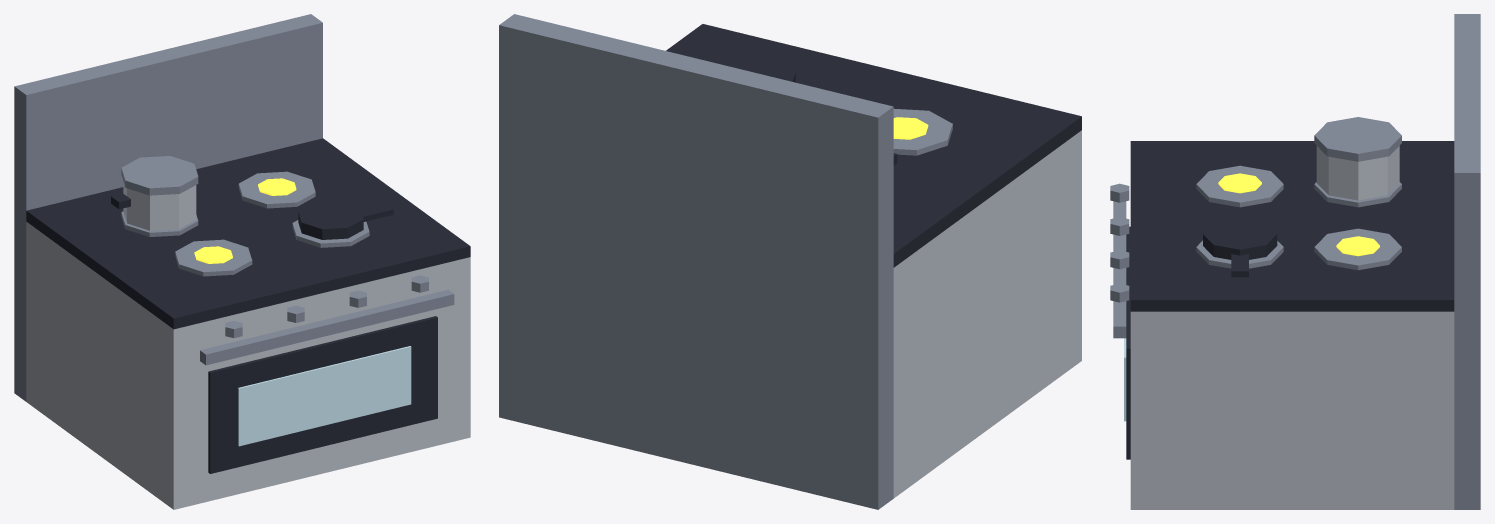
Rendered from cooktop.glb.
3 renders of one model, left to right at view 1: azimuth 30°, elevation 25°; view 2: azimuth 150°, elevation 25°; view 3: azimuth 270°, elevation 25°, orthographic. The views are drawn at different scales.
Parts seen in each view (by area): view 1: cooktop; view 2: cooktop; view 3: cooktop.
Part boxes in pixels (x1=…): cooktop: x1=14, y1=14, x2=470, y2=509; cooktop: x1=499, y1=14, x2=1081, y2=509; cooktop: x1=1110, y1=14, x2=1480, y2=509.
Size of the model in its own units: 0.86 by 0.85 by 0.8467.
1 material, 1 textured.
